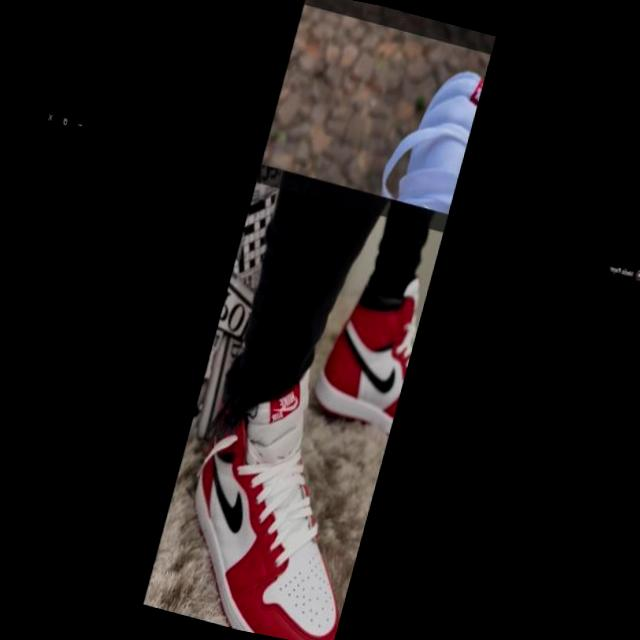nike_original_jordan: (164, 338, 405, 640)
